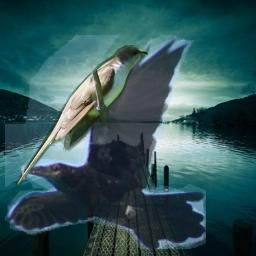Crow: (5, 35, 206, 249)
Cuckoo: (15, 45, 148, 187)
